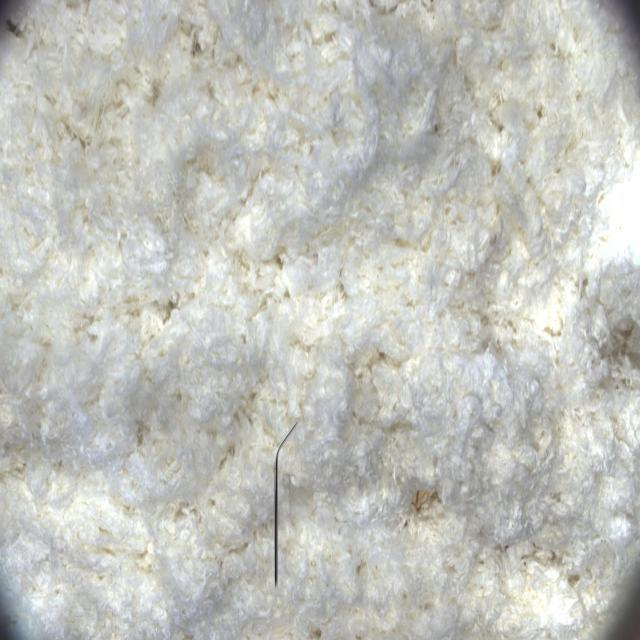dust: (246, 401, 312, 611)
